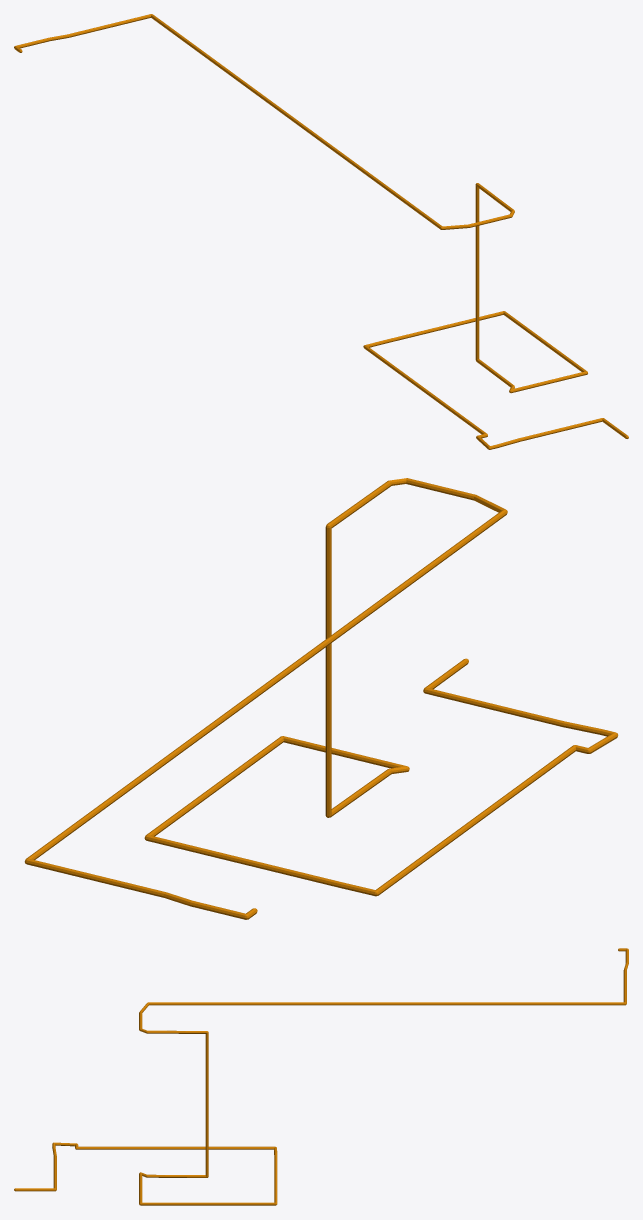
3 renders of one model, top to bottom at view 1: azimuth 30°, elevation 25°; view 2: azimuth 150°, elevation 25°; view 3: azimuth 270°, elevation 25°, orthographic. The views are drawn at different scales.
Bounding box in the file's own units: 1656 × 1020 × 3868.
